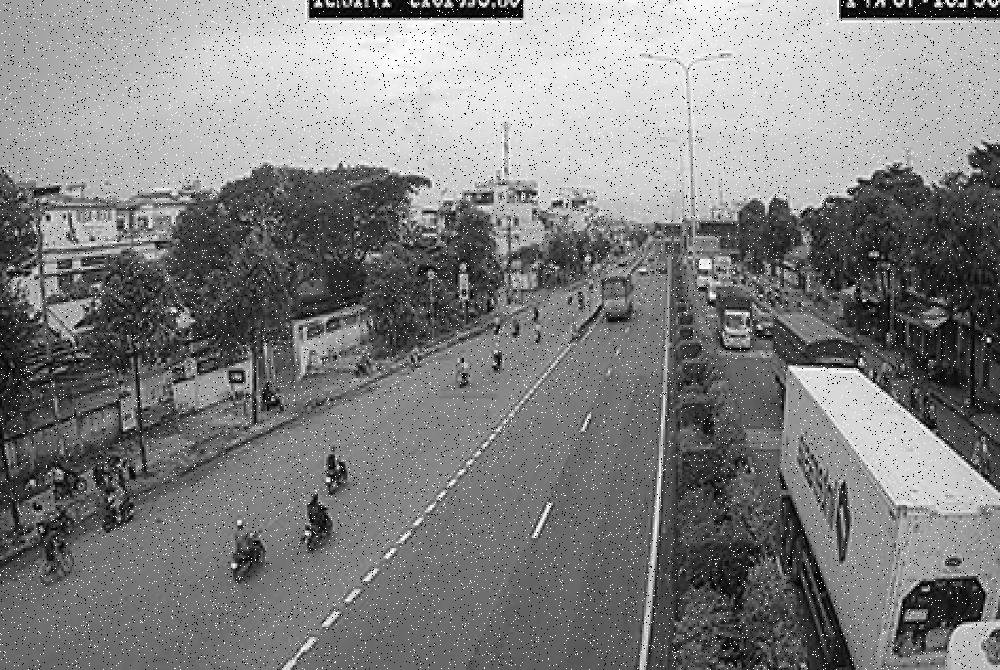truck: (780, 358, 1000, 670)
